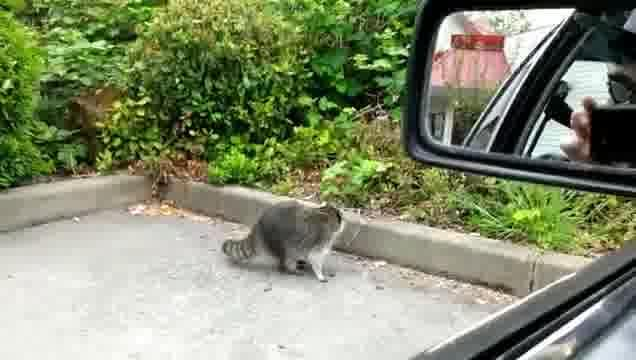raccoon: (221, 198, 347, 285)
